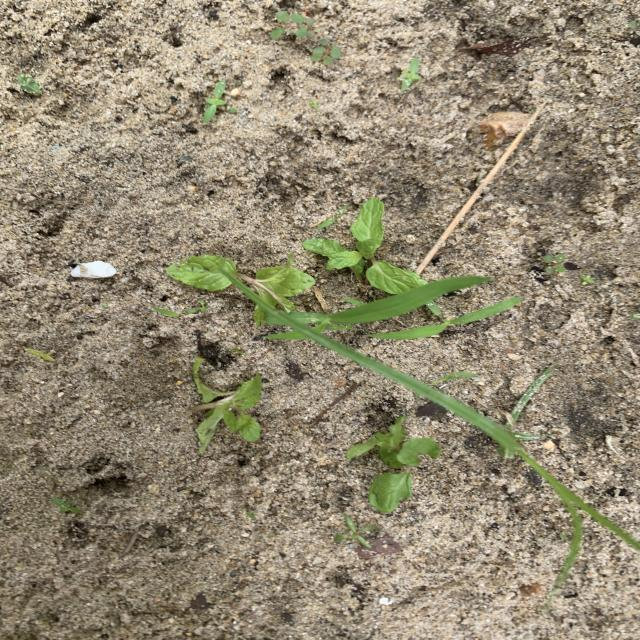crop: (304, 197, 422, 294), (347, 417, 439, 511), (166, 254, 315, 312), (192, 358, 260, 452)
weed: (260, 302, 640, 589), (290, 276, 492, 325), (369, 296, 523, 340), (334, 516, 376, 549), (270, 11, 315, 38), (203, 82, 234, 121), (152, 301, 206, 317), (317, 205, 347, 228), (398, 58, 421, 88), (311, 41, 341, 63), (431, 371, 479, 384), (52, 497, 84, 514), (541, 254, 565, 275), (24, 348, 54, 362), (17, 75, 40, 93), (580, 275, 594, 285), (310, 98, 319, 110)
